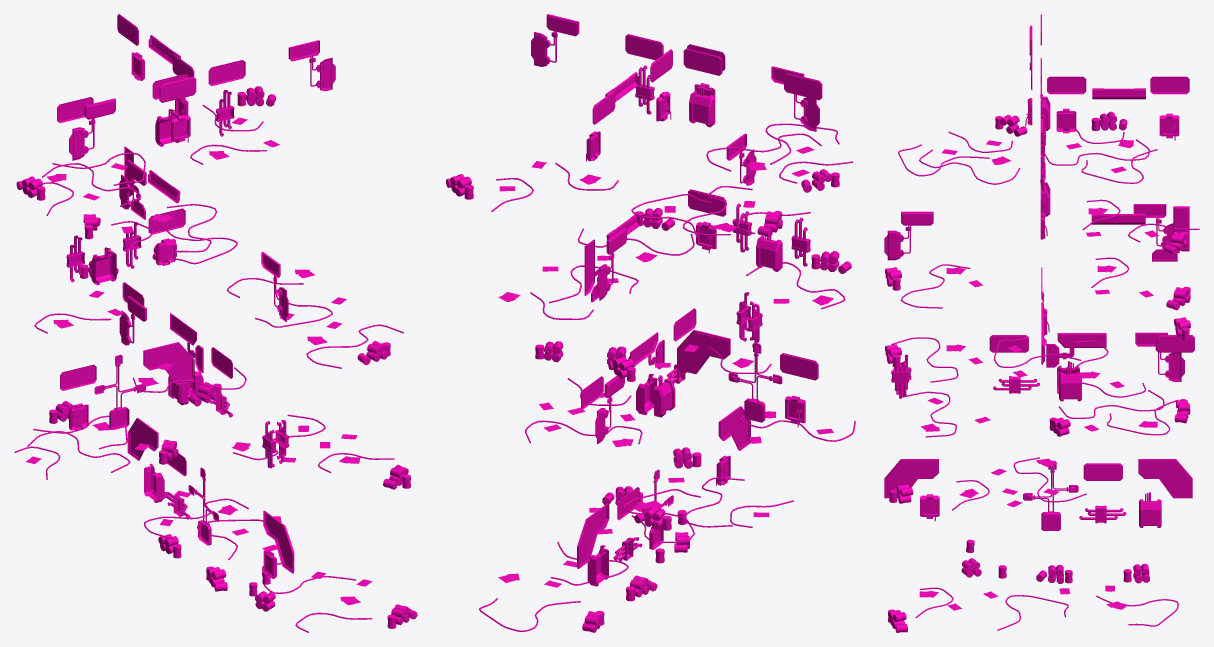
Rendered from Props02.fbx.
The picture shows the model from 3 angles, left to right: view 1: azimuth 30°, elevation 25°; view 2: azimuth 150°, elevation 25°; view 3: azimuth 270°, elevation 25°; orthographic projection. The views are drawn at different scales.
Parts seen in each view (by area): view 1: Esquinero, puiertascables003, puiertascables004, Esquinero001, tomacorriente, Esquinero002, conector003, puiertascables, respiradero001, lamapras009, lamapras010, puiertascables001 (+6 smaller); view 2: Esquinero, puiertascables003, Esquinero002, tomacorriente, Esquinero001, puiertascables004, conector004, conector003, puiertascables002, lamapras005, lamapras006, puiertascables (+9 smaller); view 3: Esquinero002, Esquinero001, respiradero001, puiertascables001, puiertascables, respiradero002, tomacorriente001, lamapras008, lamapras007, lamapras003, conector001, lamapras002 (+10 smaller).
Boxes of the visible parts, x1,y1,x2,y2 form: Esquinero: [143, 342, 194, 384]; puiertascables003: [288, 40, 335, 91]; puiertascables004: [69, 98, 115, 160]; Esquinero001: [263, 510, 294, 573]; tomacorriente: [94, 354, 145, 429]; Esquinero002: [127, 418, 158, 460]; conector003: [91, 247, 116, 285]; puiertascables: [119, 296, 146, 345]; respiradero001: [170, 313, 203, 373]; lamapras009: [208, 60, 245, 86]; lamapras010: [159, 76, 196, 102]; puiertascables001: [261, 252, 288, 321]; Esquinero: [677, 330, 730, 374]; puiertascables003: [531, 14, 579, 66]; Esquinero002: [577, 503, 609, 568]; tomacorriente: [728, 342, 782, 422]; Esquinero001: [718, 406, 750, 450]; puiertascables004: [771, 66, 819, 131]; conector004: [689, 85, 715, 127]; conector003: [756, 235, 782, 271]; puiertascables002: [597, 227, 626, 300]; lamapras005: [683, 48, 722, 75]; lamapras006: [784, 73, 822, 100]; puiertascables: [595, 375, 624, 443]; Esquinero002: [1138, 459, 1192, 498]; Esquinero001: [884, 459, 938, 498]; respiradero001: [1046, 333, 1106, 367]; puiertascables001: [884, 211, 933, 260]; puiertascables: [1135, 332, 1184, 381]; respiradero002: [1152, 206, 1189, 261]; tomacorriente001: [1023, 460, 1078, 530]; lamapras008: [1047, 76, 1086, 94]; lamapras007: [1150, 76, 1189, 94]; lamapras003: [1083, 463, 1122, 480]; conector001: [1059, 365, 1081, 401]; lamapras002: [1155, 335, 1194, 352].
Size of the model in its own units: 190 by 330 by 192.
